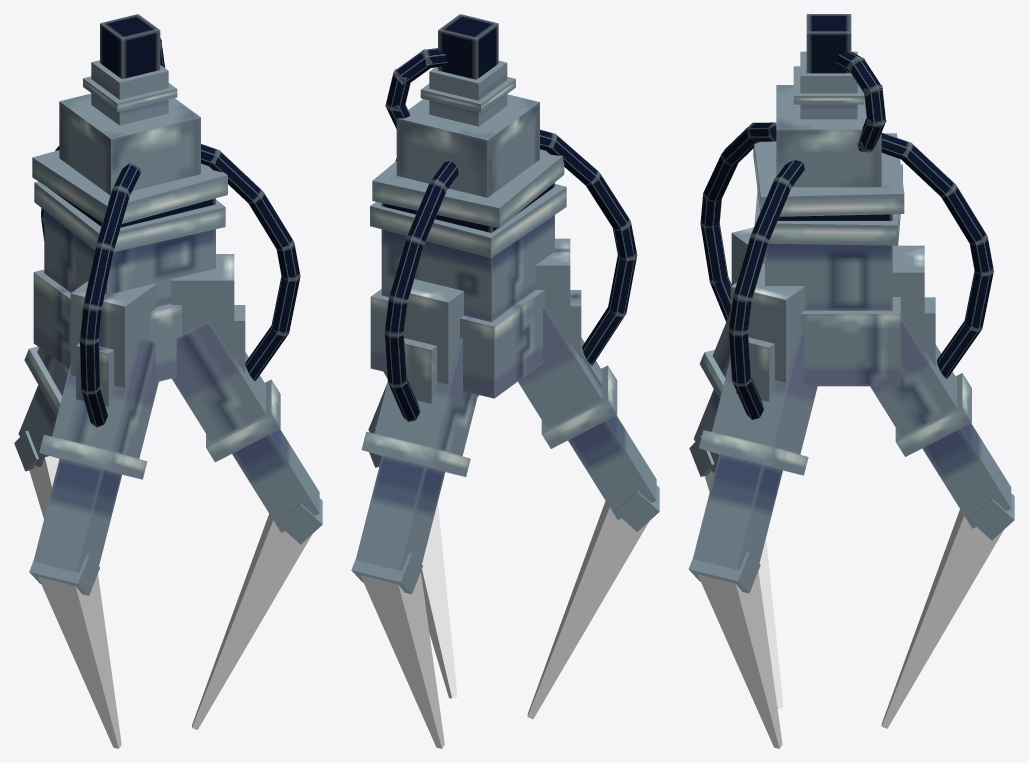
Rendered from Arcade Grabber.obj.
3 views of the same model, side by side, from view 1: azimuth 30°, elevation 25°; view 2: azimuth 150°, elevation 25°; view 3: azimuth 270°, elevation 25° (orthographic).
Visible parts, largest first — view 1: cube, cylinder; view 2: cube, cylinder; view 3: cube, cylinder.
Boxes of the visible parts, x1,y1,x2,y2 form: cube: [14, 14, 322, 748]; cylinder: [41, 38, 300, 427]; cube: [351, 14, 659, 748]; cylinder: [384, 48, 637, 421]; cube: [688, 14, 1014, 748]; cylinder: [700, 52, 993, 419].
Size of the model in its own units: 0.6735 by 1.52 by 0.6387.
